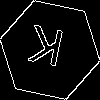K: (25, 25, 66, 76)
